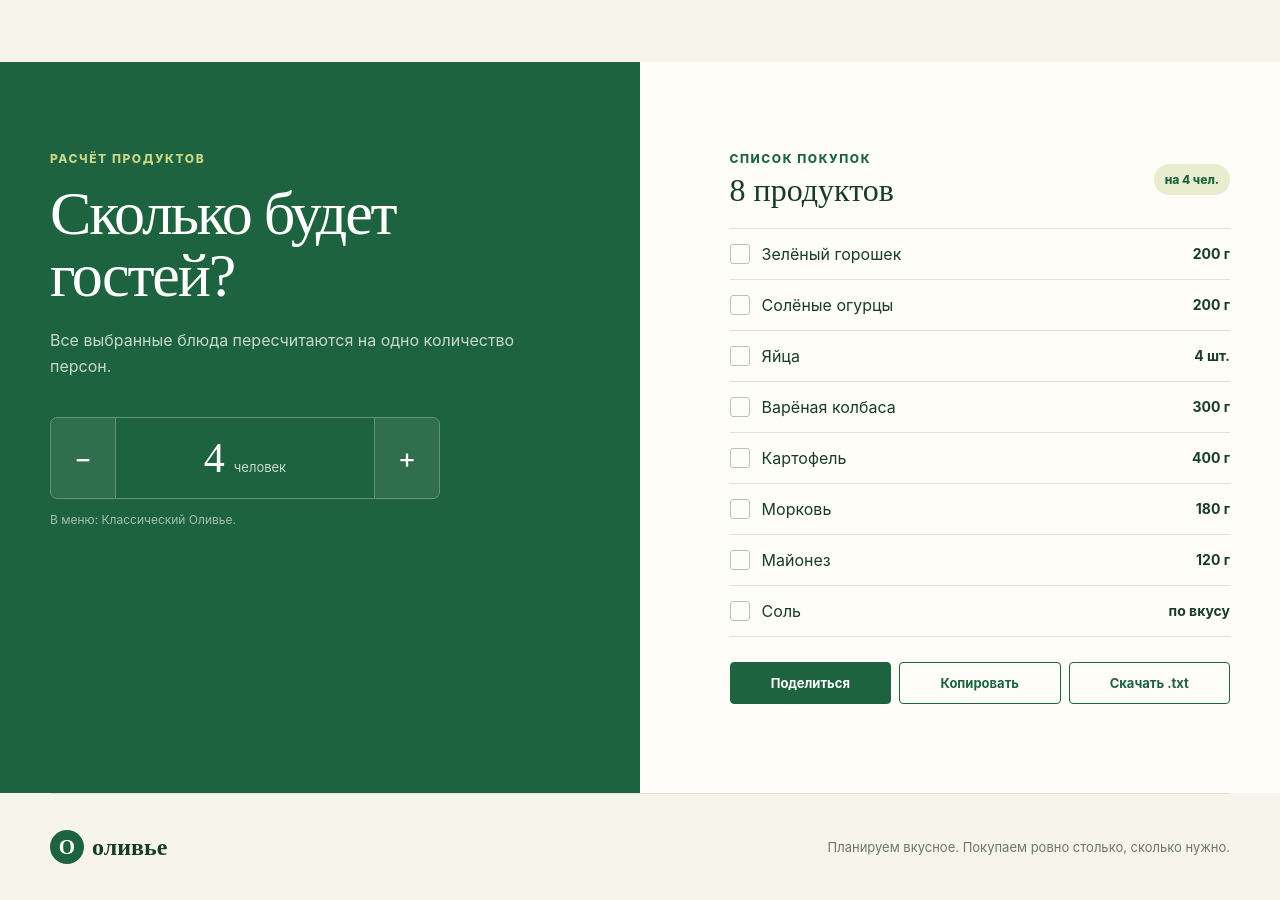
Test: App › показывает пересчитанное количество продуктов для пяти гостей
The width and height of the screenshot is (1280, 900).
(page scrolled)
Click the button named "Увеличить" at (407,458), box [375,418,439,498]
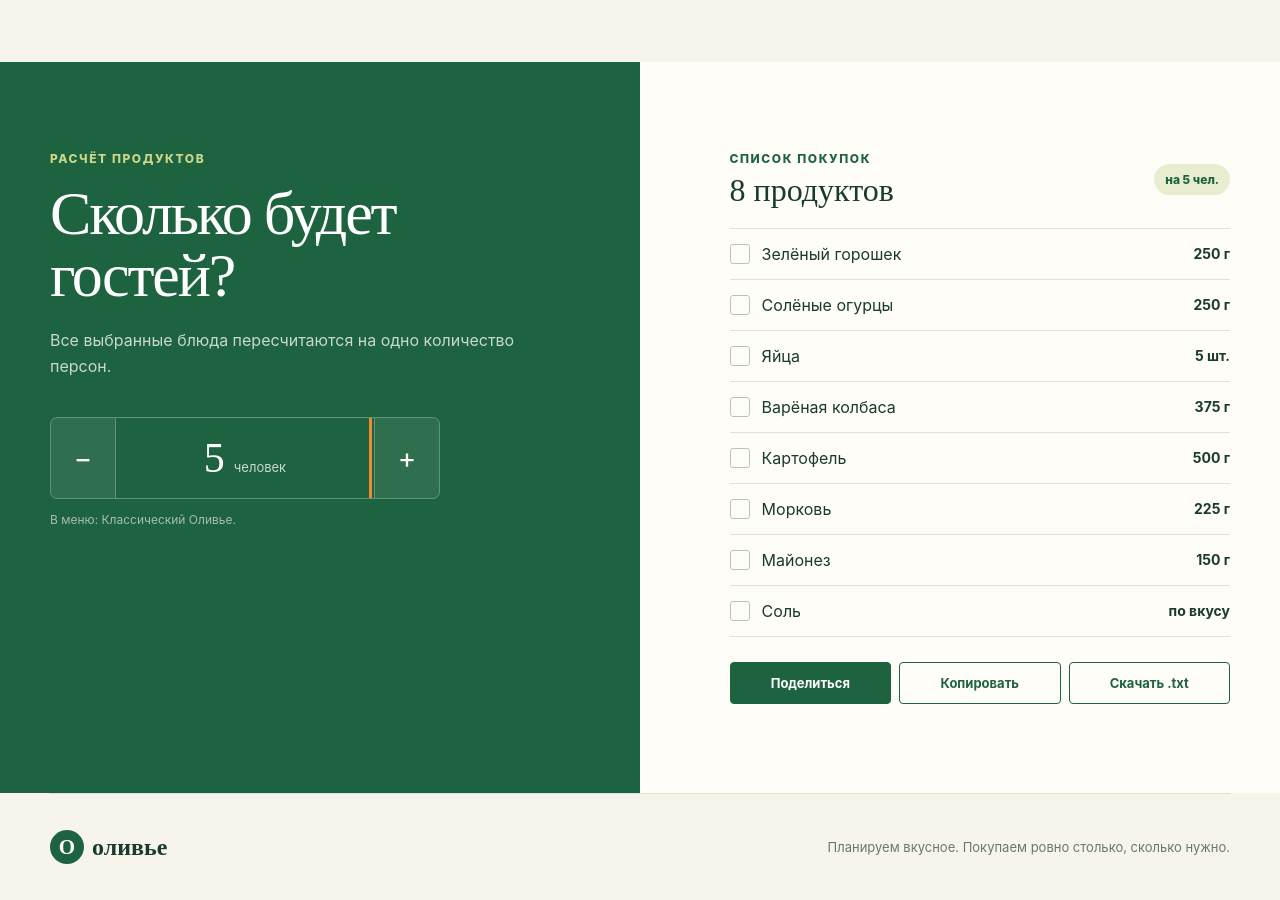
Expected: the list item "Картофель" is shown, [730,433,1230,484]
Expected: the text "500 г" is shown, [1193,449,1230,466]
Expected: the text "на 5 чел." is shown, [1154,164,1230,195]
